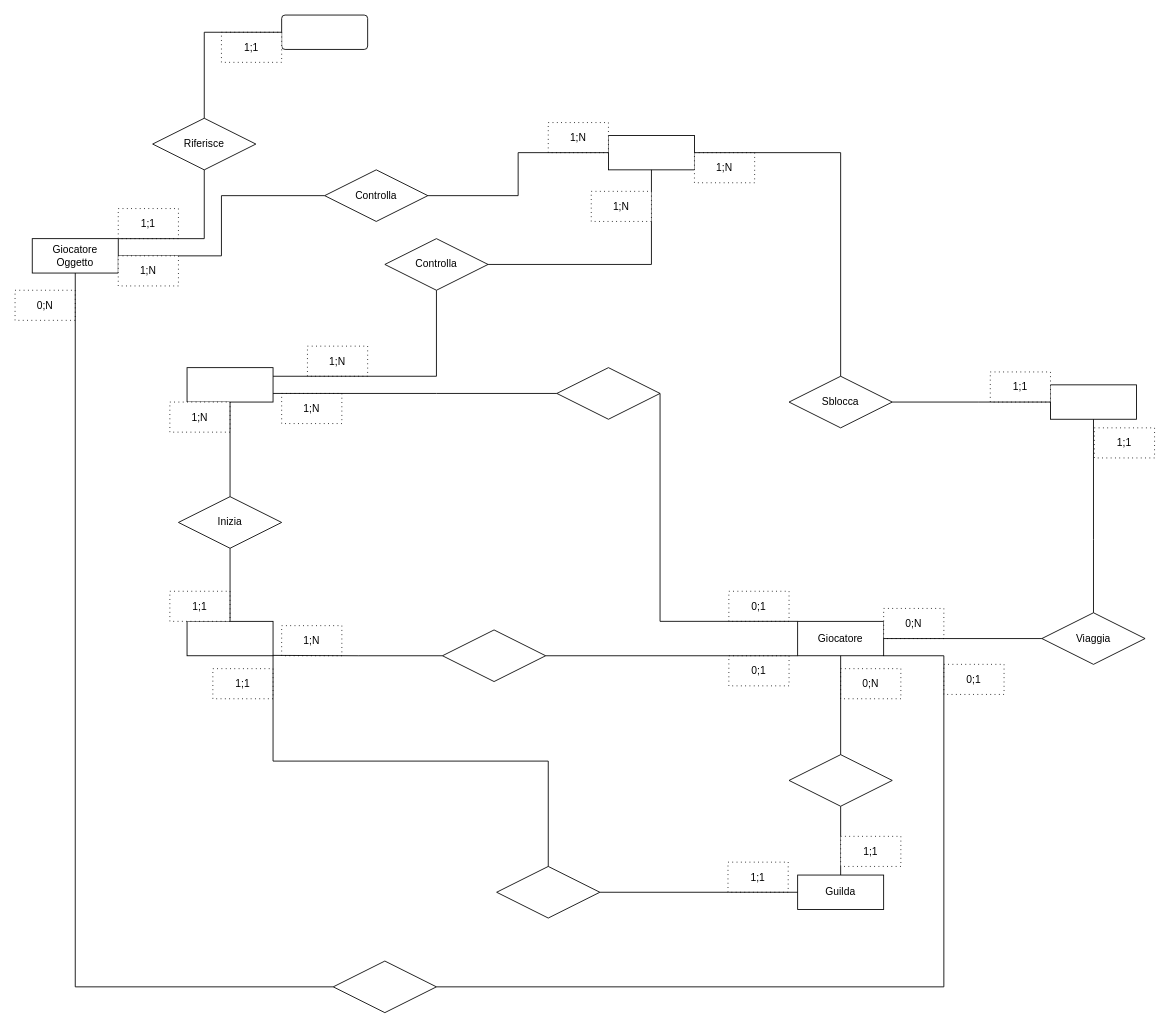
This 1170x1028 diagram has some shape labels left out. The shapes that lost their labels are listed below. From the top down, each one's box as (x1, y1, x2, y2) in pixels, then its label:
(281, 14, 368, 49): Oggetto
(608, 135, 694, 170): Obbiettivo
(186, 367, 273, 402): Missione
(556, 367, 660, 419): Complete
(1050, 384, 1136, 419): Dimensione
(186, 620, 273, 656): NPC
(442, 629, 546, 682): Parla
(788, 754, 892, 806): Appartiene
(496, 866, 600, 918): Affiliato
(332, 960, 436, 1013): Possiede
